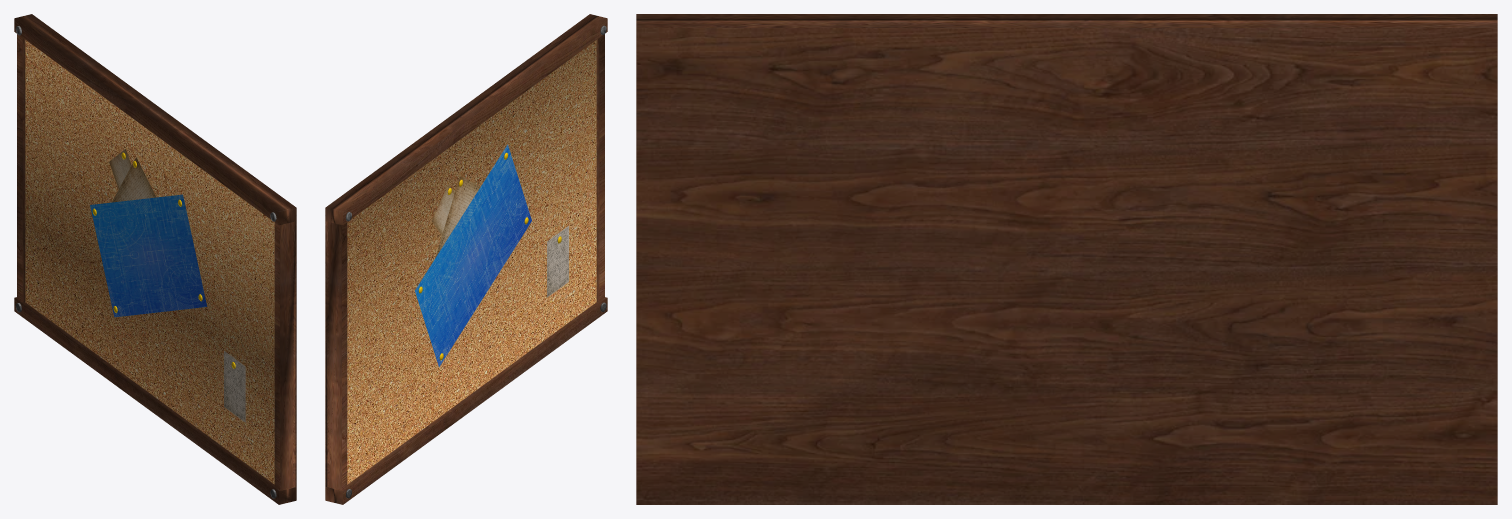
The model's file is bulletin board.fbx.
3 views of the same model, side by side, from view 1: azimuth 30°, elevation 25°; view 2: azimuth 150°, elevation 25°; view 3: azimuth 270°, elevation 25° (orthographic). The views are drawn at different scales.
Visible parts, largest first — view 1: Cube, Plane.002, Plane.003, Plane, Plane.001; view 2: Cube, Plane.002, Plane.003, Plane, Plane.001; view 3: Cube.
Part boxes in pixels (x1,y1,x2,y2): Cube: (14,14,296,504); Plane.002: (90,194,207,317); Plane.003: (224,351,245,422); Plane: (112,157,156,202); Plane.001: (109,149,131,188); Cube: (325,14,607,504); Plane.002: (415,144,531,367); Plane.003: (547,226,568,297); Plane: (435,176,480,258); Plane.001: (432,184,454,235); Cube: (636,14,1497,504).
Bounding box in the file's own units: 46.38 × 682 × 1116.
Materials: 8 (8 with a texture image).
